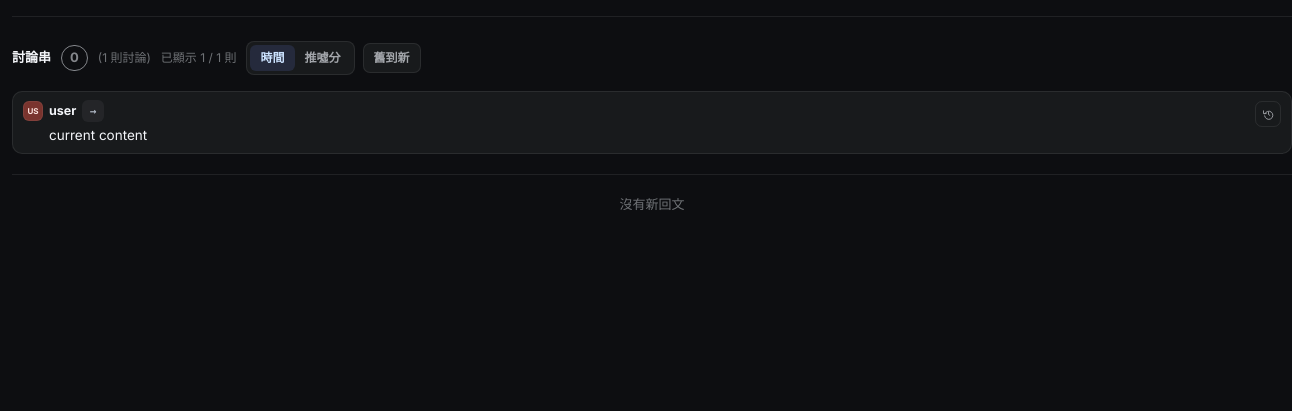
Scenario: PushThread › shows EditHistoryPanel after clicking 編輯歷史, hides after clicking 收起歷史
Expected: the text "原始" is not shown
# Click to show
Click the button named "編輯歷史": coordinates (1268, 114) x1=1255 y1=101 x2=1281 y2=127
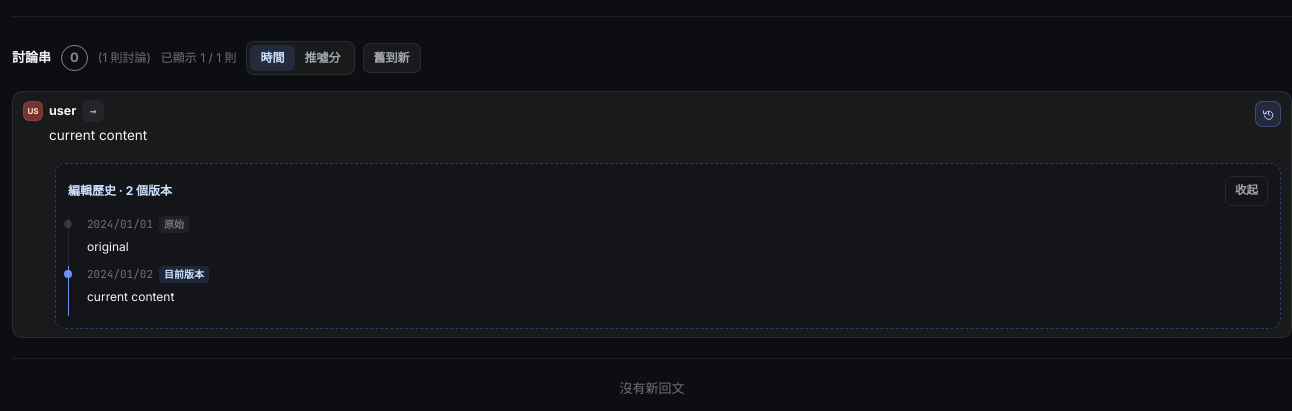
Now the text "原始" is shown, box x1=159 y1=216 x2=189 y2=232
Now the text "目前版本" is shown, box x1=159 y1=266 x2=209 y2=283
Now the button named "收起歷史" is shown, box x1=1255 y1=101 x2=1281 y2=127
# Click to hide using the inline 收起 button inside the panel
Click the button "收起": coordinates (1246, 191) x1=1225 y1=176 x2=1268 y2=206
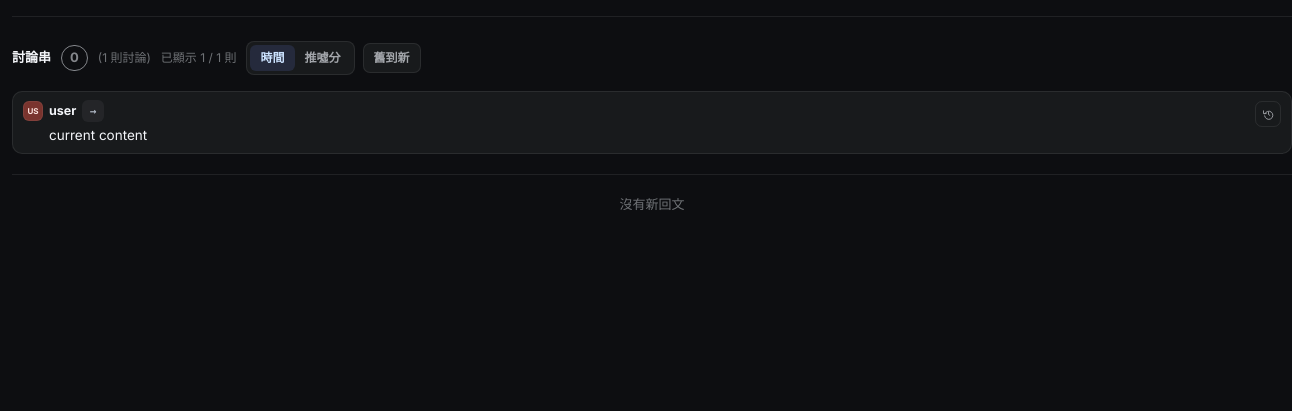
Now the text "原始" is gone
